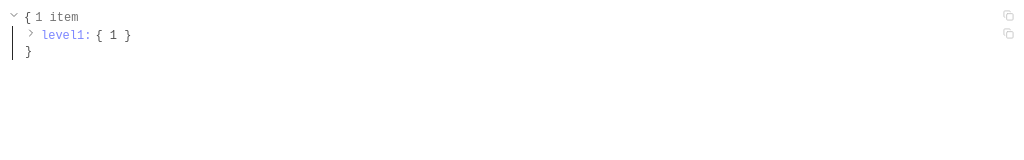
JsonTree › collapses nodes past the default expand depth, and expands them on click
The width and height of the screenshot is (1024, 160).
Expected: the text "\"deep\"" is not shown
Click the button "level1: { 1 }". click: point(78, 35)
box: x1=25 y1=27 x2=131 y2=43
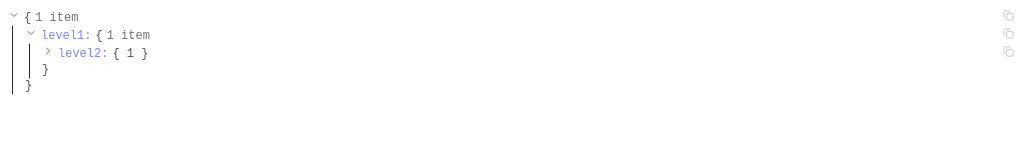
Click the button "level2: { 1 }". click: point(95, 53)
box: x1=42 y1=45 x2=148 y2=61
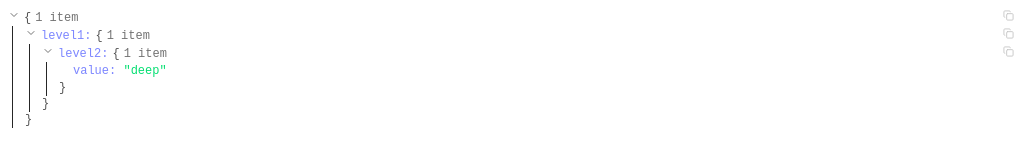
Expected: the text "\"deep\"" is shown, x1=123 y1=64 x2=167 y2=78
